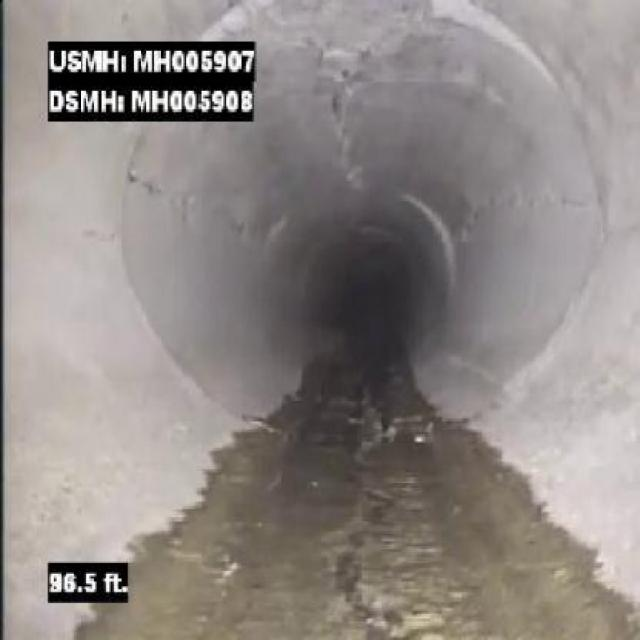Buckling: (251, 13, 458, 185)
Crack: (340, 385, 434, 637), (131, 160, 298, 251), (449, 182, 589, 240)
